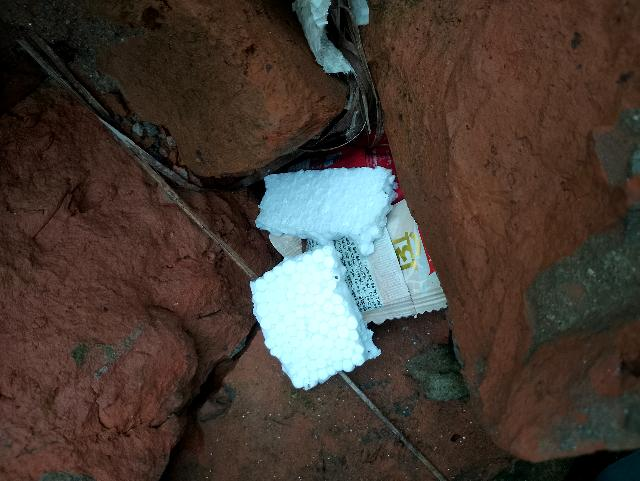cocksheet: (234, 239, 389, 408), (244, 121, 393, 253)
